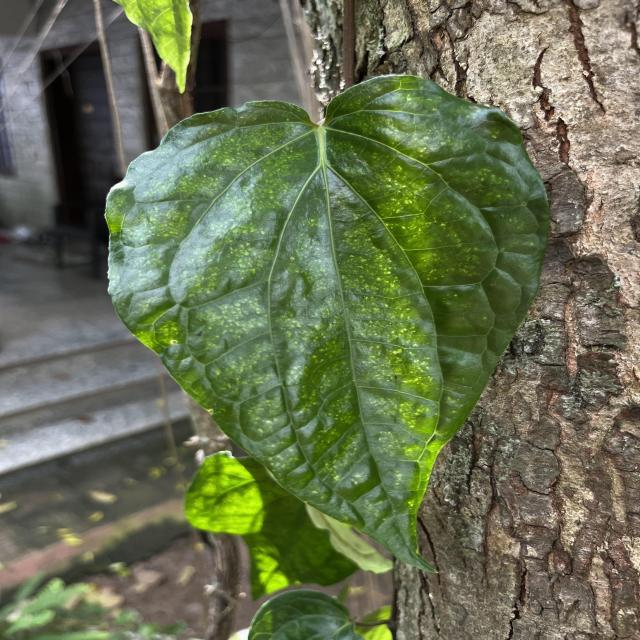Piper betle: (100, 68, 556, 579)
